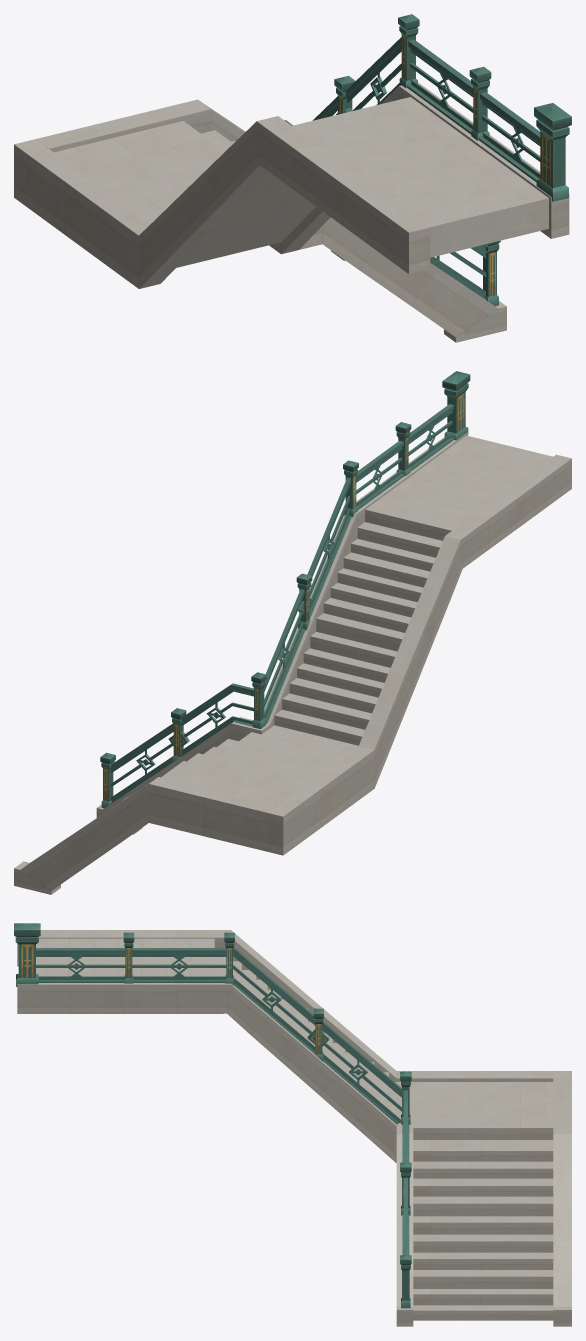
The model's file is Homeworld_Interior_Fd_Room_K_Stair_01_Vo.fbx.
3 renders of one model, top to bottom at view 1: azimuth 30°, elevation 25°; view 2: azimuth 150°, elevation 25°; view 3: azimuth 270°, elevation 25°, orthographic. The views are drawn at different scales.
Visible parts, largest first — view 1: Homeworld_Interior_Fd_Room_K_Stair_01_Vo; view 2: Homeworld_Interior_Fd_Room_K_Stair_01_Vo; view 3: Homeworld_Interior_Fd_Room_K_Stair_01_Vo.
Boxes of the visible parts, x1=… form: Homeworld_Interior_Fd_Room_K_Stair_01_Vo: x1=14, y1=14, x2=571, y2=342; Homeworld_Interior_Fd_Room_K_Stair_01_Vo: x1=14, y1=371, x2=571, y2=894; Homeworld_Interior_Fd_Room_K_Stair_01_Vo: x1=14, y1=923, x2=571, y2=1326.
Bounding box in the file's own units: 5.34 × 6.49 × 9.98.
